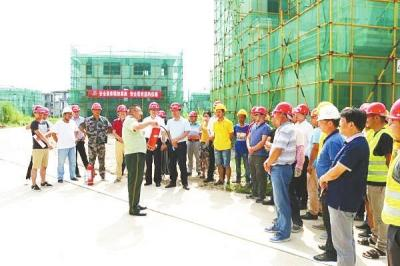helmet: (319, 107, 340, 123), (366, 103, 387, 118), (276, 103, 294, 118), (391, 99, 400, 121), (297, 105, 309, 116), (171, 103, 183, 113), (91, 104, 103, 113), (215, 105, 227, 114), (257, 108, 269, 117), (34, 107, 45, 116), (238, 109, 248, 118), (73, 105, 82, 114), (150, 103, 160, 111), (64, 107, 73, 115), (118, 106, 127, 114), (158, 111, 167, 119), (252, 107, 261, 115), (44, 108, 51, 117), (190, 112, 197, 118)
